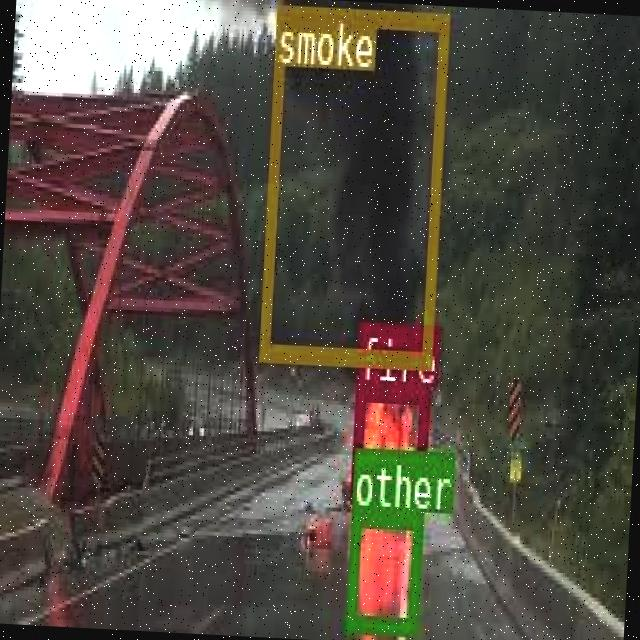fire: (349, 379, 428, 502)
smoke: (259, 4, 448, 368)
